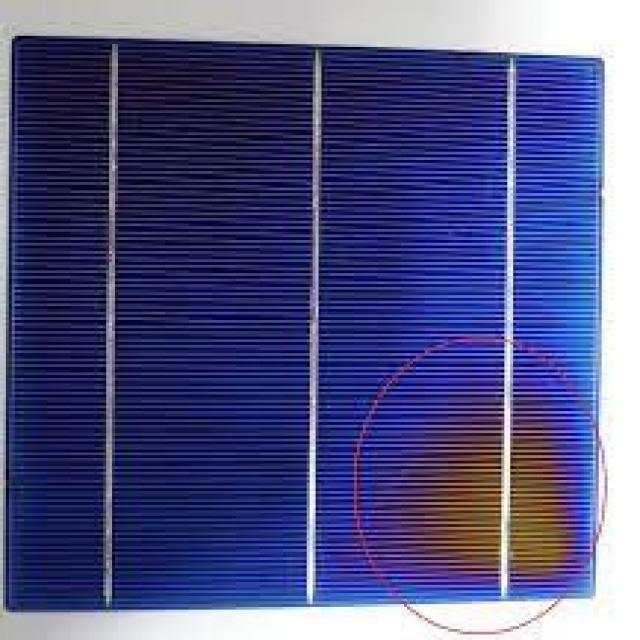faulty: (5, 46, 609, 597)
